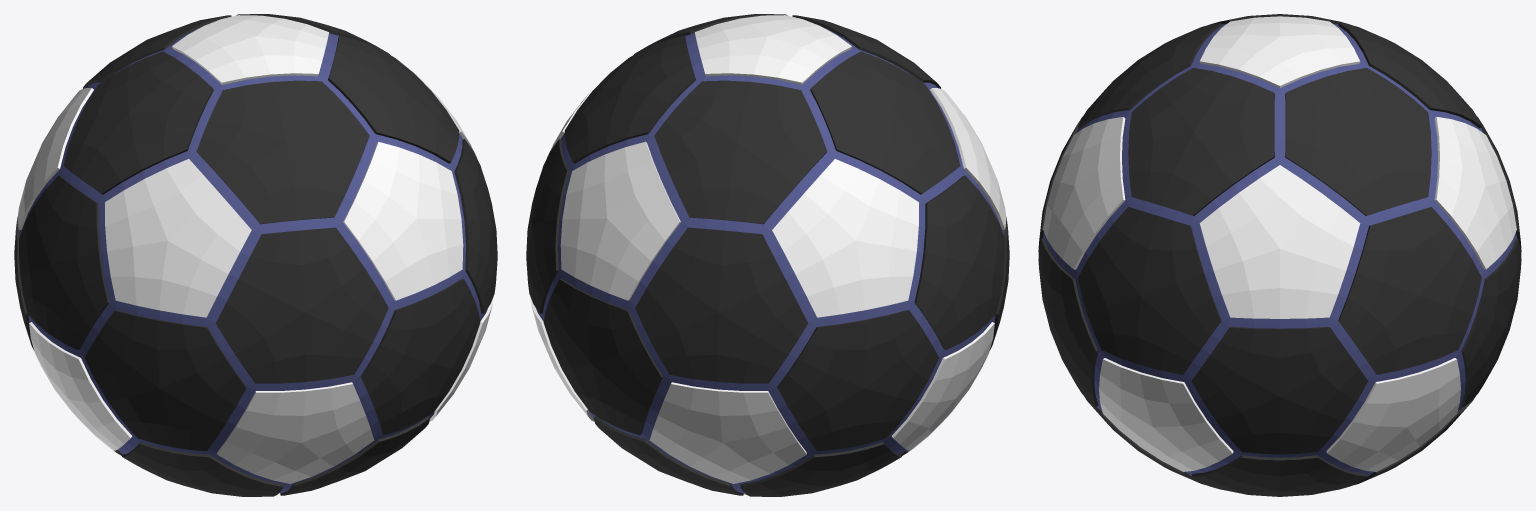
Rendered from Soccerball01.fbx.
3 views of the same model, side by side, from view 1: azimuth 30°, elevation 25°; view 2: azimuth 150°, elevation 25°; view 3: azimuth 270°, elevation 25° (orthographic).
Parts seen in each view (by area): view 1: Icosphere; view 2: Icosphere; view 3: Icosphere.
Boxes of the visible parts, <box> form: Icosphere: <box>14,14,497,496</box>; Icosphere: <box>526,14,1009,496</box>; Icosphere: <box>1038,14,1521,496</box>.
Bounding box in the file's own units: 168 × 168 × 168.
